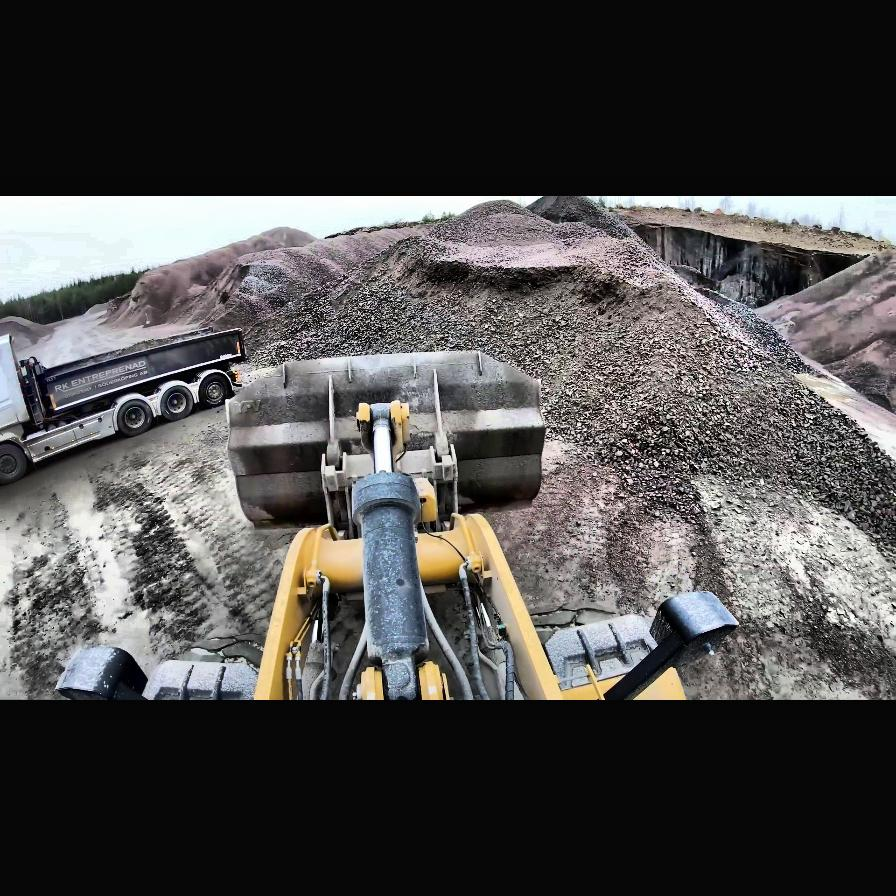anchor: (356, 402, 410, 460)
pile of gravel: (238, 198, 896, 566), (213, 218, 453, 354), (107, 227, 317, 335), (1, 317, 53, 351)
